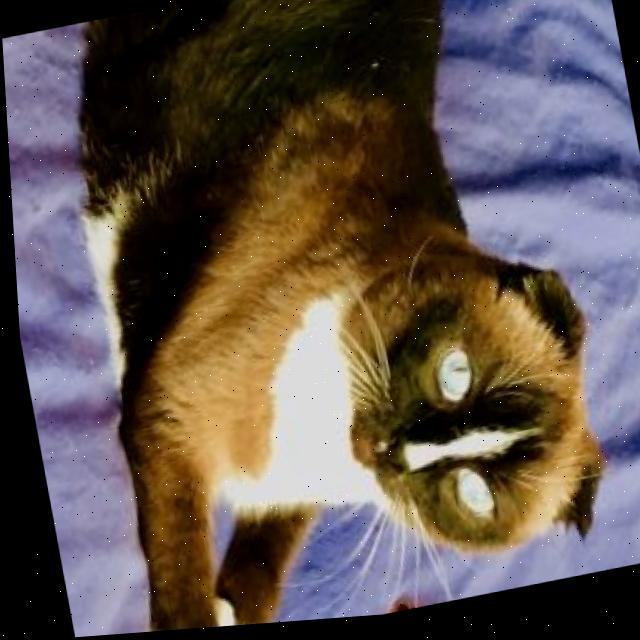Scottish Fold: (17, 0, 629, 639)
